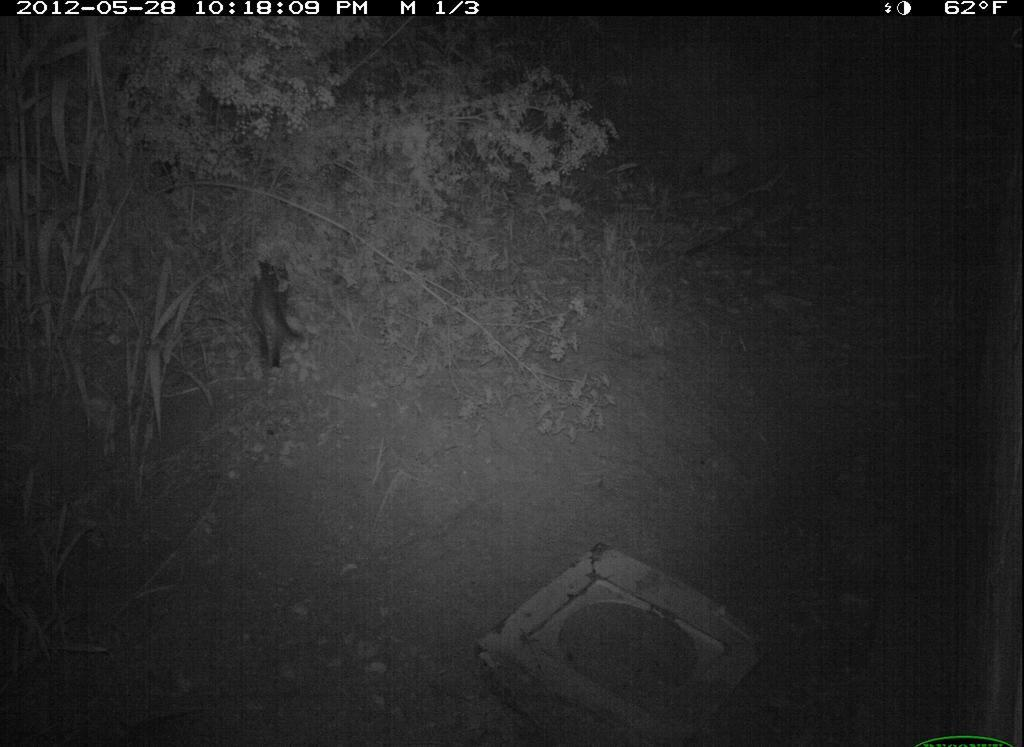cat: (233, 248, 331, 386)
